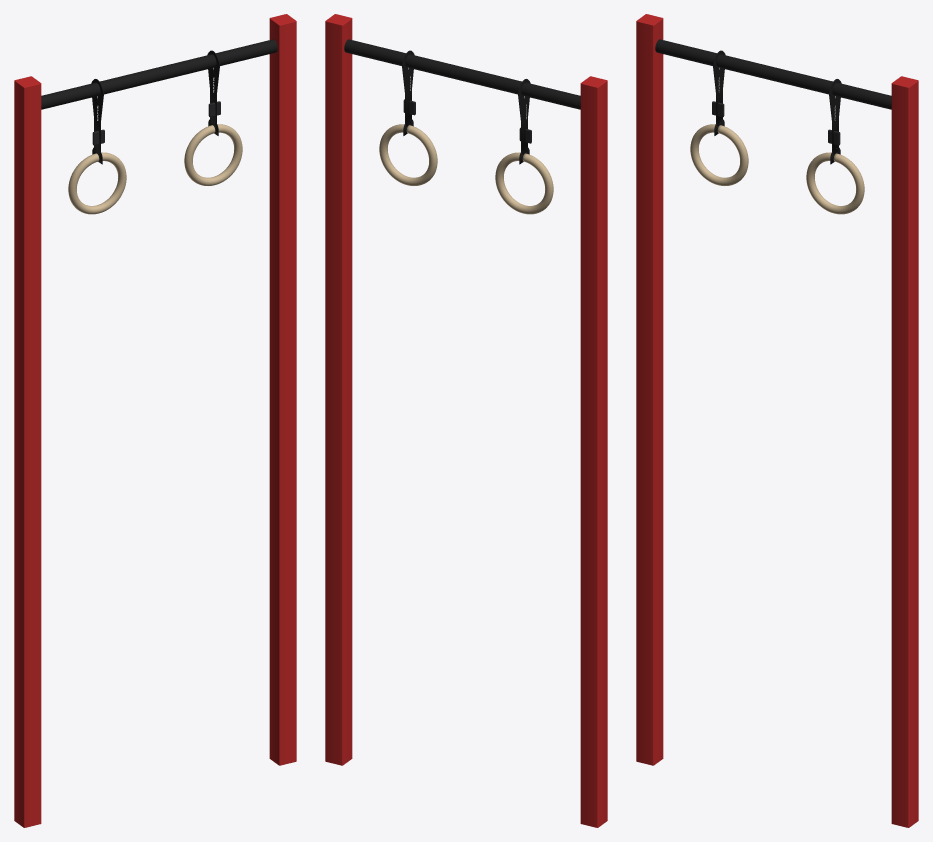
File: rogue-wood-gymnastics-rings_v002.glb
The picture shows the model from 3 angles, left to right: view 1: azimuth 30°, elevation 25°; view 2: azimuth 150°, elevation 25°; view 3: azimuth 330°, elevation 25°; orthographic projection.
Parts seen in each view (by area): view 1: rogue-wood-gymnastics-rings_red, rogue-wood-gymnastics-rings_frame, rogue-wood-gymnastics-rings_birch, rogue-wood-gymnastics-rings_strap; view 2: rogue-wood-gymnastics-rings_red, rogue-wood-gymnastics-rings_frame, rogue-wood-gymnastics-rings_birch, rogue-wood-gymnastics-rings_strap; view 3: rogue-wood-gymnastics-rings_red, rogue-wood-gymnastics-rings_frame, rogue-wood-gymnastics-rings_birch, rogue-wood-gymnastics-rings_strap.
Boxes of the visible parts, x1=… form: rogue-wood-gymnastics-rings_red: x1=14, y1=14, x2=296, y2=827; rogue-wood-gymnastics-rings_frame: x1=41, y1=39, x2=277, y2=109; rogue-wood-gymnastics-rings_birch: x1=68, y1=124, x2=242, y2=214; rogue-wood-gymnastics-rings_strap: x1=91, y1=50, x2=219, y2=164; rogue-wood-gymnastics-rings_red: x1=325, y1=14, x2=607, y2=827; rogue-wood-gymnastics-rings_frame: x1=344, y1=39, x2=580, y2=109; rogue-wood-gymnastics-rings_birch: x1=379, y1=124, x2=553, y2=214; rogue-wood-gymnastics-rings_strap: x1=402, y1=50, x2=530, y2=164; rogue-wood-gymnastics-rings_red: x1=636, y1=14, x2=918, y2=827; rogue-wood-gymnastics-rings_frame: x1=655, y1=39, x2=891, y2=109; rogue-wood-gymnastics-rings_birch: x1=690, y1=124, x2=864, y2=214; rogue-wood-gymnastics-rings_strap: x1=713, y1=50, x2=841, y2=164.
Bounding box in the file's own units: 1.18 × 3.05 × 0.0918.
